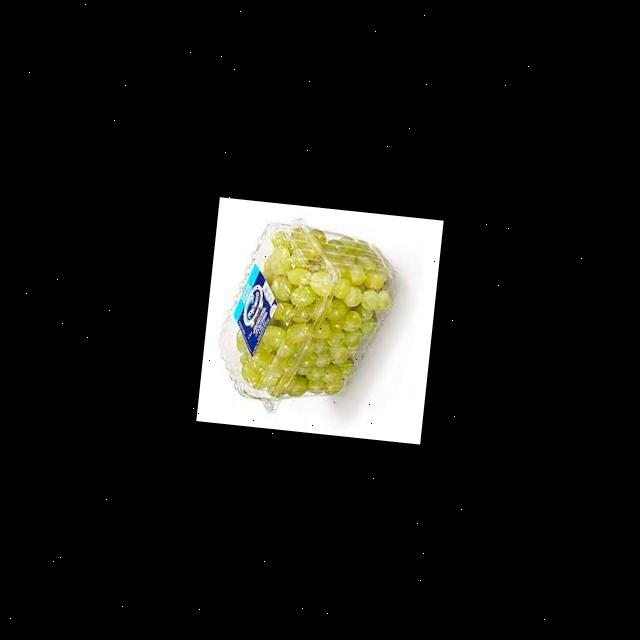grape: (229, 218, 400, 408)
